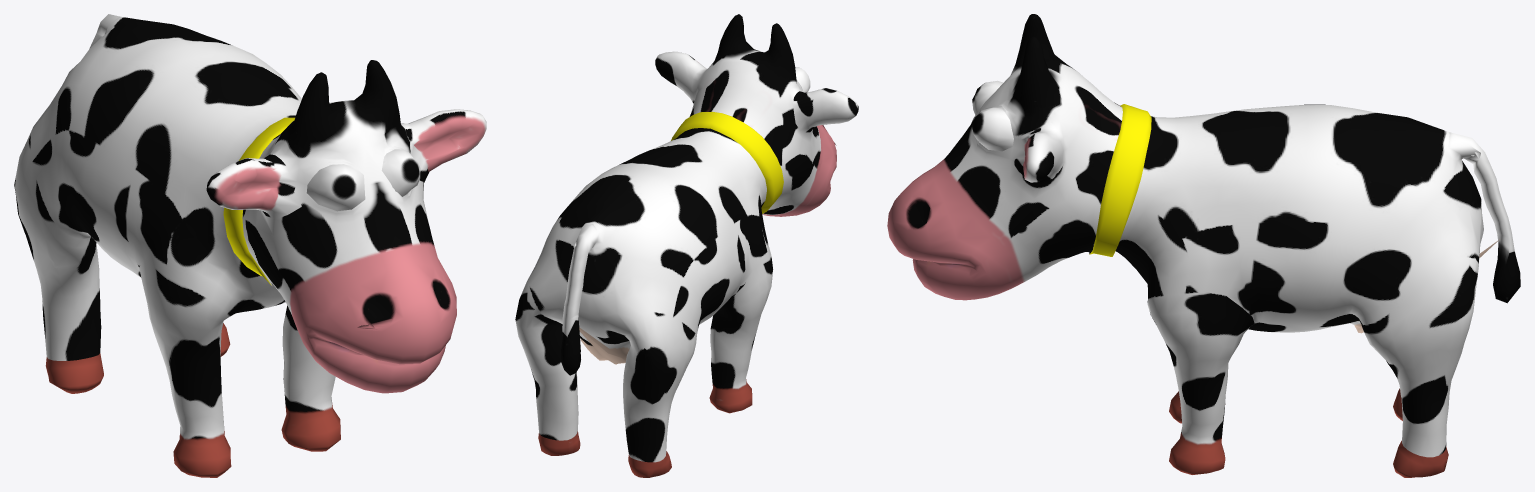
File: Cow_Base_stuffed.fbx
The picture shows the model from 3 angles, left to right: view 1: azimuth 30°, elevation 25°; view 2: azimuth 150°, elevation 25°; view 3: azimuth 270°, elevation 25°; orthographic projection. The views are drawn at different scales.
Parts seen in each view (by area): view 1: Group49178, cow_low_poly:Group49178; view 2: Group49178; view 3: Group49178, cow_low_poly:Group49178.
Part boxes in pixels (box(x1,y1,x2,y2)): Group49178: box(14, 14, 486, 477); cow_low_poly:Group49178: box(305, 146, 420, 213); Group49178: box(515, 14, 858, 477); Group49178: box(887, 14, 1520, 477); cow_low_poly:Group49178: box(972, 55, 1474, 156).
Size of the model in its own units: 149 by 234 by 322.
Materials: 1 (1 with a texture image).
